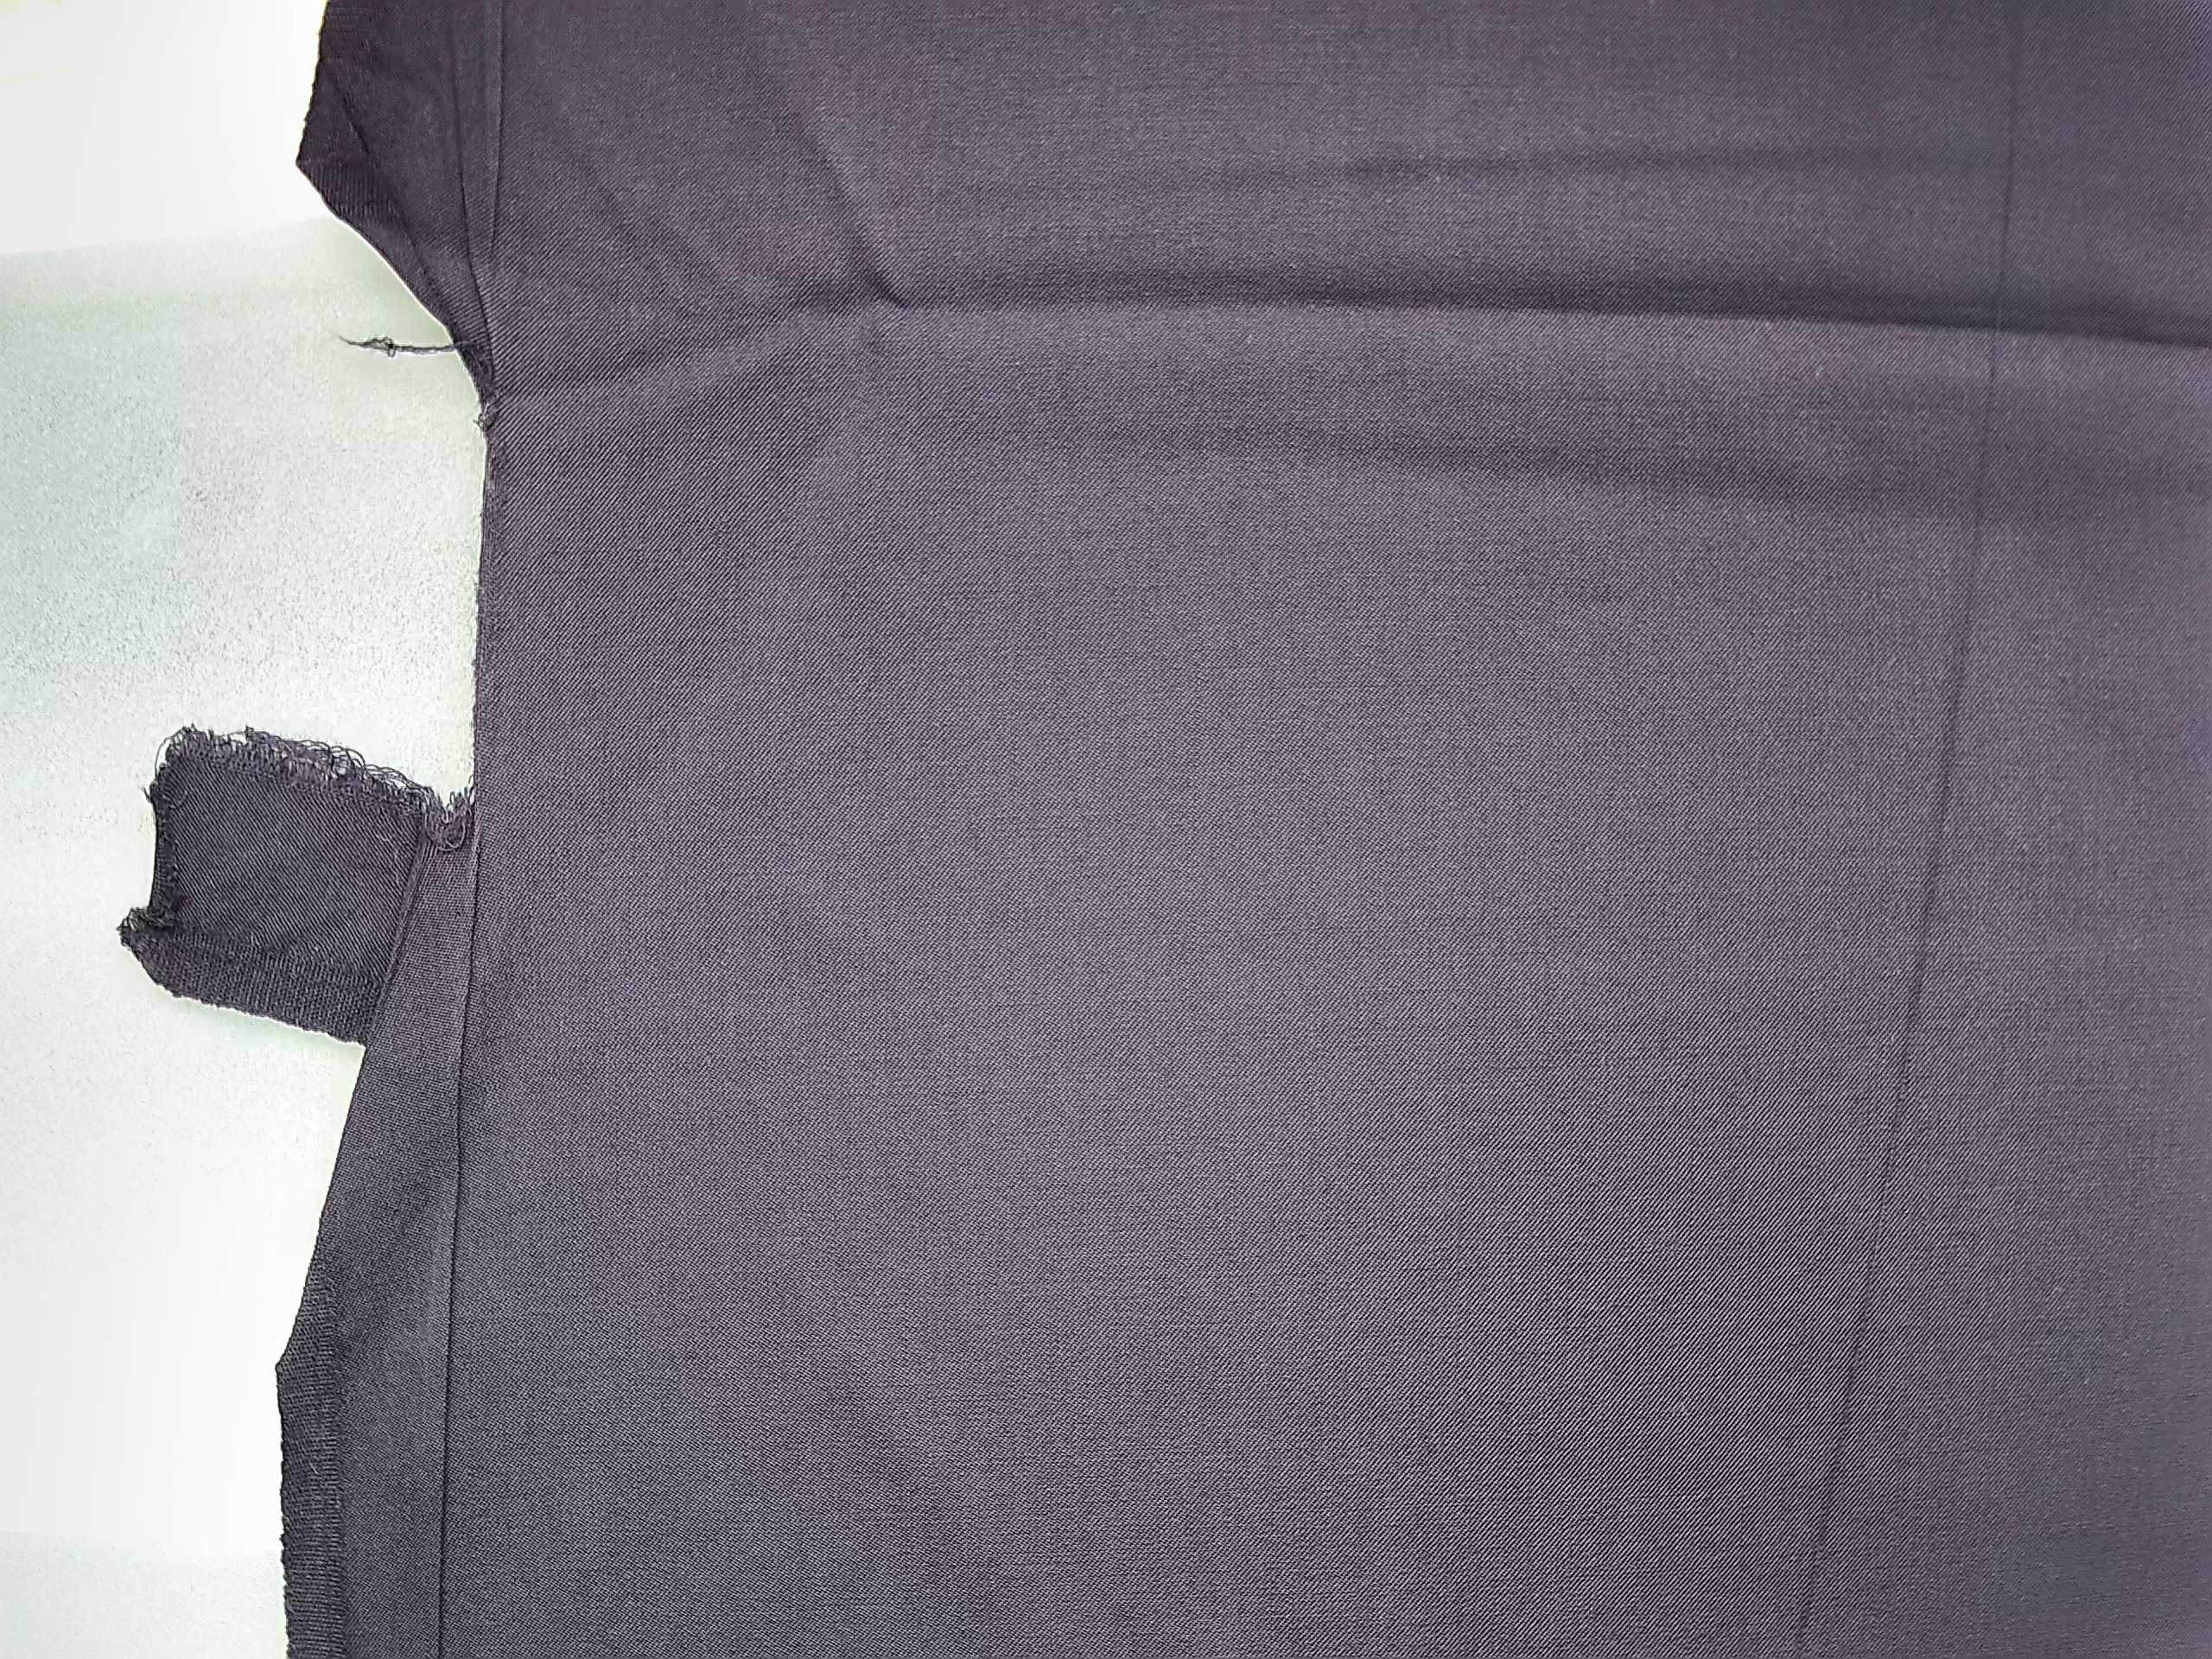others: (188, 131, 697, 1493)
